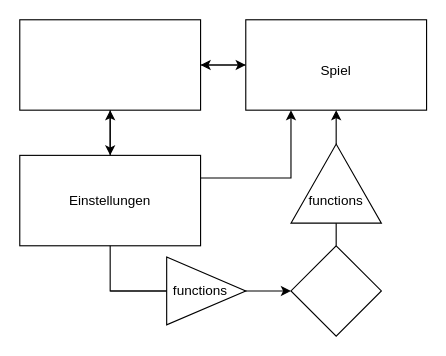
This 446x356 diagram has some shape labels left out. Each missing label, with the centre of its shape:
"Hauptmenü" belongs at [110,64].
"Speicher" belongs at [335,290].
